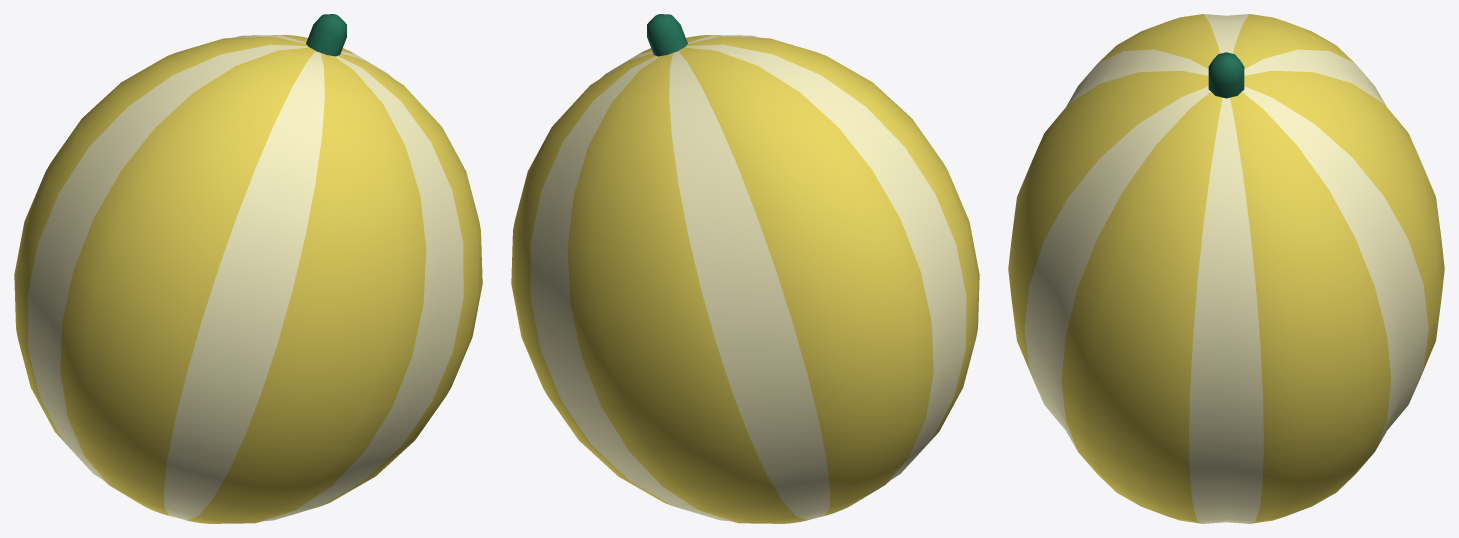
File: melon.glb
3 views of the same model, side by side, from view 1: azimuth 30°, elevation 25°; view 2: azimuth 150°, elevation 25°; view 3: azimuth 270°, elevation 25° (orthographic). The views are drawn at different scales.
Parts seen in each view (by area): view 1: melon; view 2: melon; view 3: melon.
Boxes of the visible parts, bbox=[...] form: melon: bbox=[14, 14, 482, 523]; melon: bbox=[511, 14, 979, 523]; melon: bbox=[1008, 14, 1444, 523].
Bounding box in the file's own units: 0.5256 × 0.577 × 0.464.
